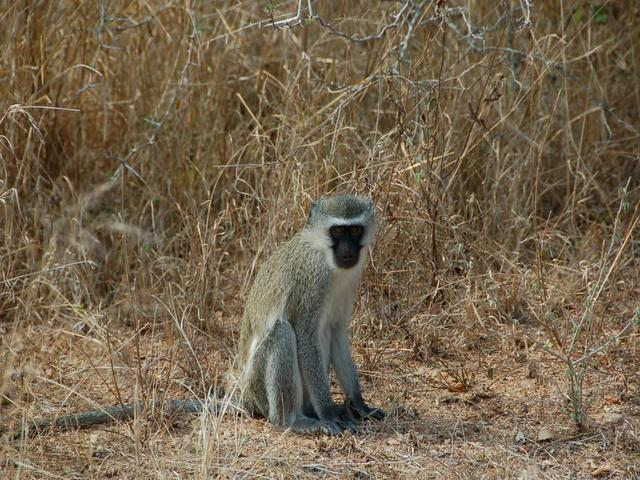monkey: (25, 183, 419, 462)
